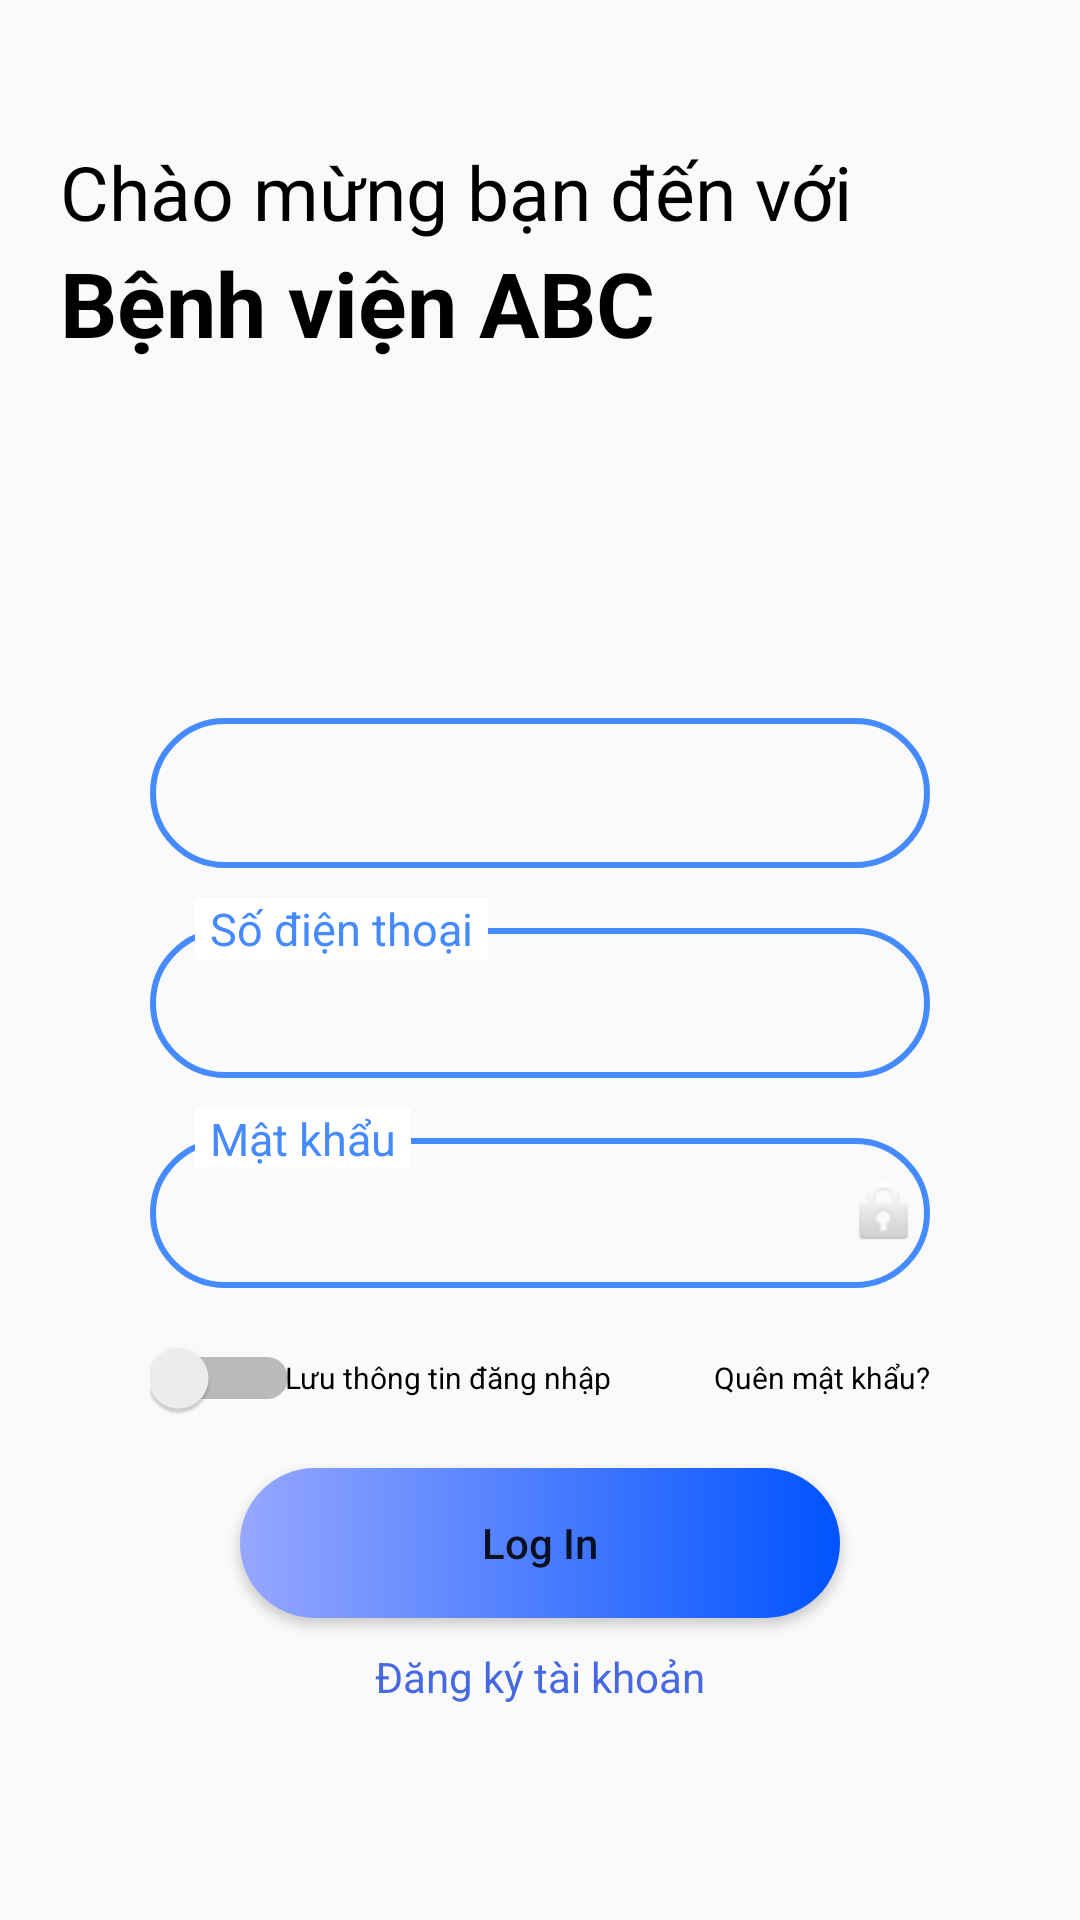

Screen size 1080 x 1920. Icon name, then its box in pixels as [x1=x1, y1=y1, x2=x2, y2=y2]:
lock idle: [x1=859, y1=1209, x2=908, y2=1239]
